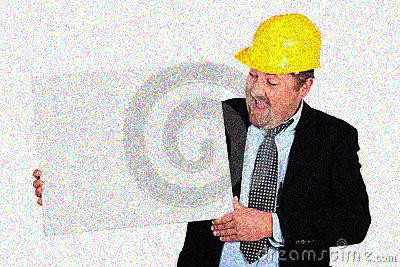helmet: (233, 12, 323, 127)
